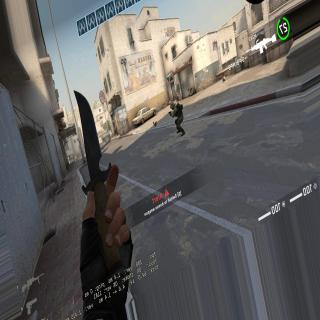CT-Body: (169, 102, 185, 134)
CT-Head: (170, 104, 176, 110)
